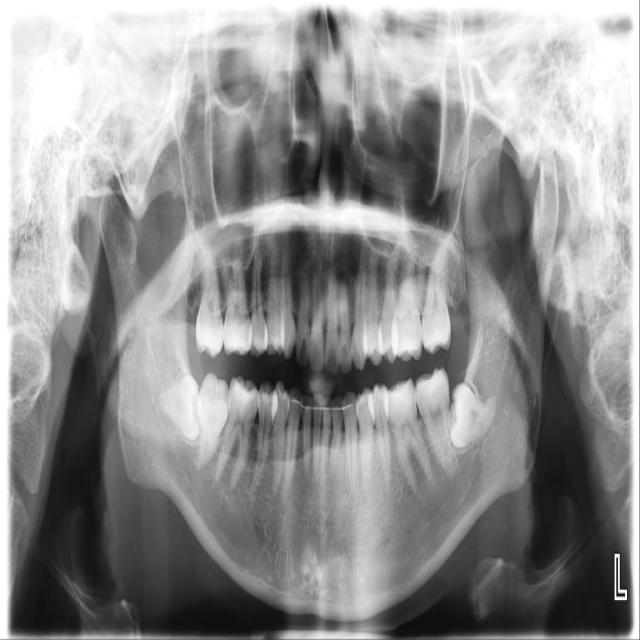Filling: (235, 382, 255, 404)
impacted tooth: (446, 381, 500, 447), (152, 374, 205, 436)
